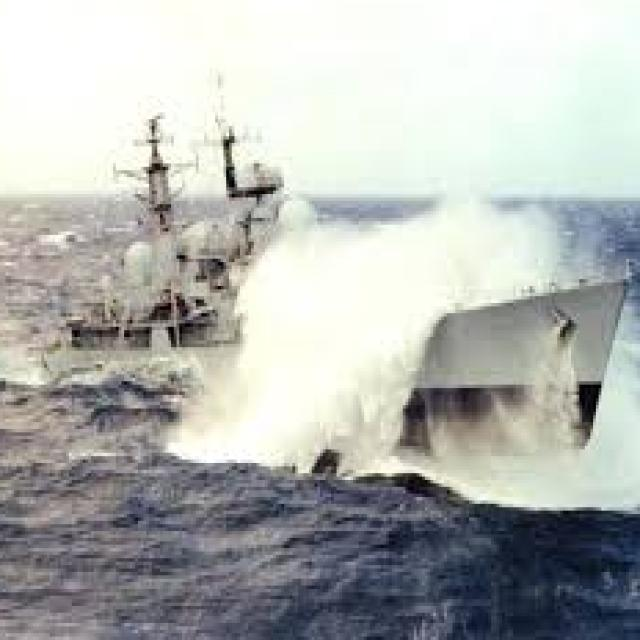navalvessels: (55, 111, 613, 458)
